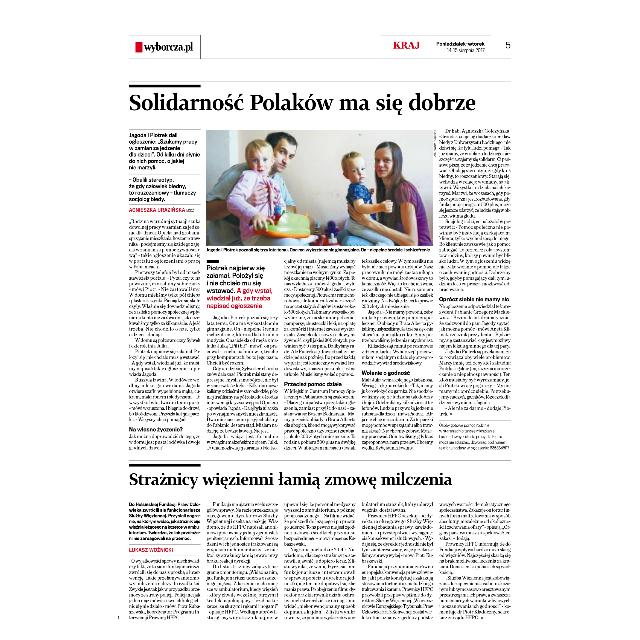article: (124, 90, 518, 460), (121, 469, 518, 633)
